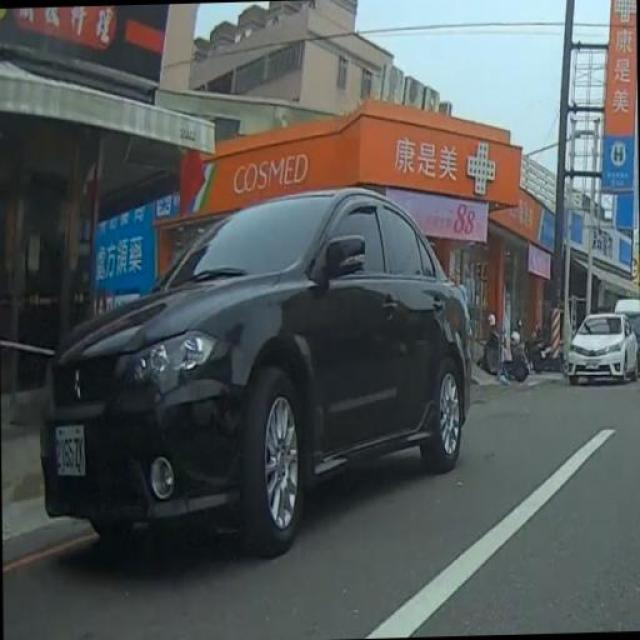Legalparking: (31, 143, 546, 613)
